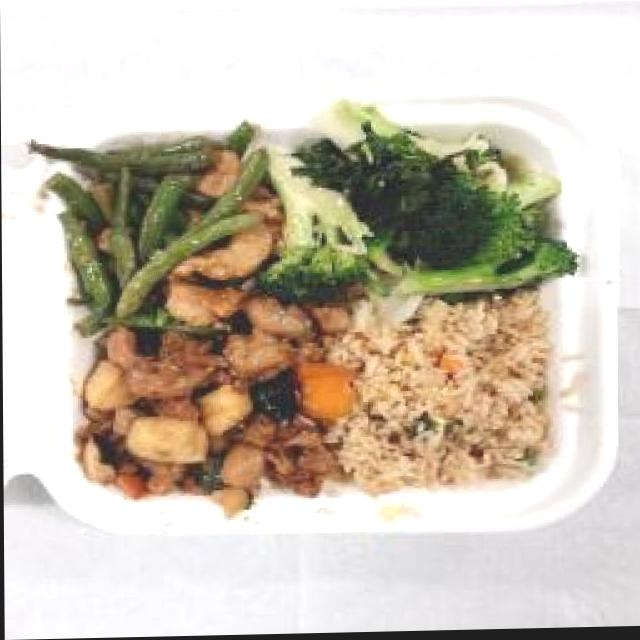Fried Rice: (327, 293, 566, 500)
Kung Pao Chicken: (65, 299, 356, 517)
String Bean Chicken Breast: (51, 130, 282, 337)
Super Greens: (276, 108, 570, 316)
